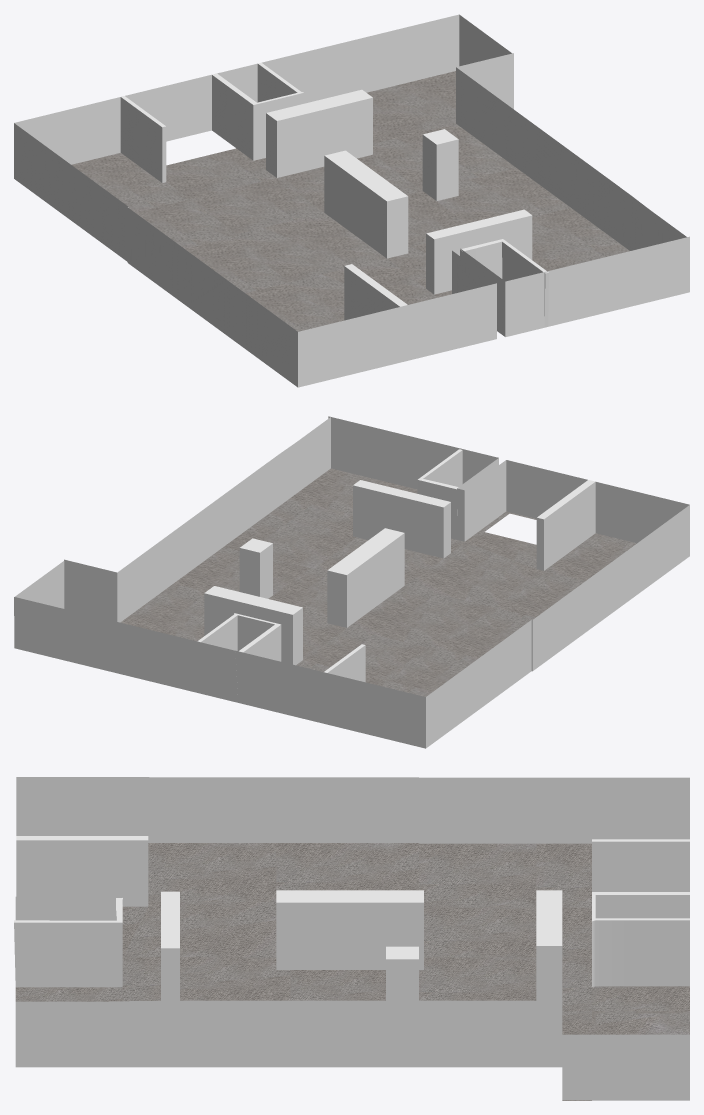
Rendered from 4floor.fbx.
3 views of the same model, one above another, from view 1: azimuth 30°, elevation 25°; view 2: azimuth 150°, elevation 25°; view 3: azimuth 270°, elevation 25° (orthographic). The views are drawn at different scales.
Visible parts, largest first — view 1: floor_4f; view 2: floor_4f; view 3: floor_4f.
Boxes of the visible parts, box(x1,y1,x2,y2) form: floor_4f: box(14, 14, 689, 387); floor_4f: box(14, 416, 689, 748); floor_4f: box(14, 777, 689, 1100).
Bounding box in the file's own units: 0.4106 × 0.0502 × 0.455.
Materials: 1 (1 with a texture image).
